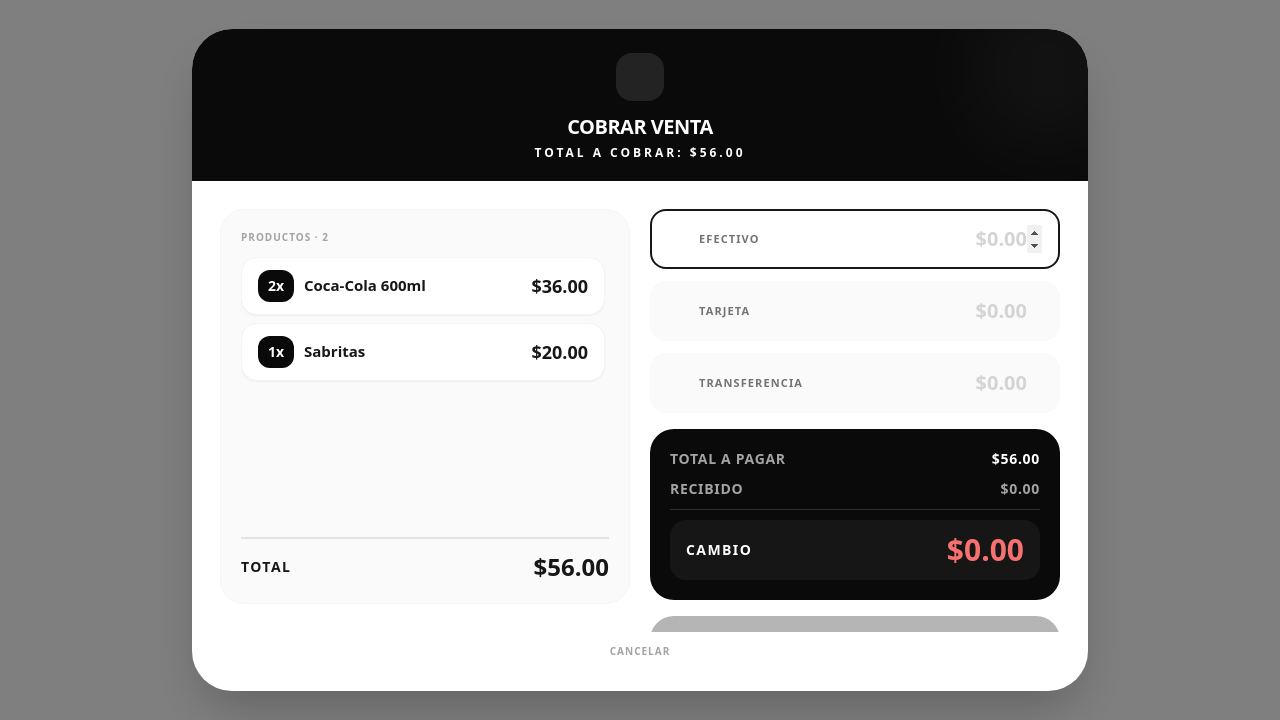
Scenario: ventas · guard de cobro insuficiente › deshabilita Cobrar si el monto pagado es menor al total
The image size is (1280, 720).
Type "10" into the number field with placeholder "$0.00" next to "Efectivo" at (932, 239), box x1=823 y1=225 x2=1042 y2=253
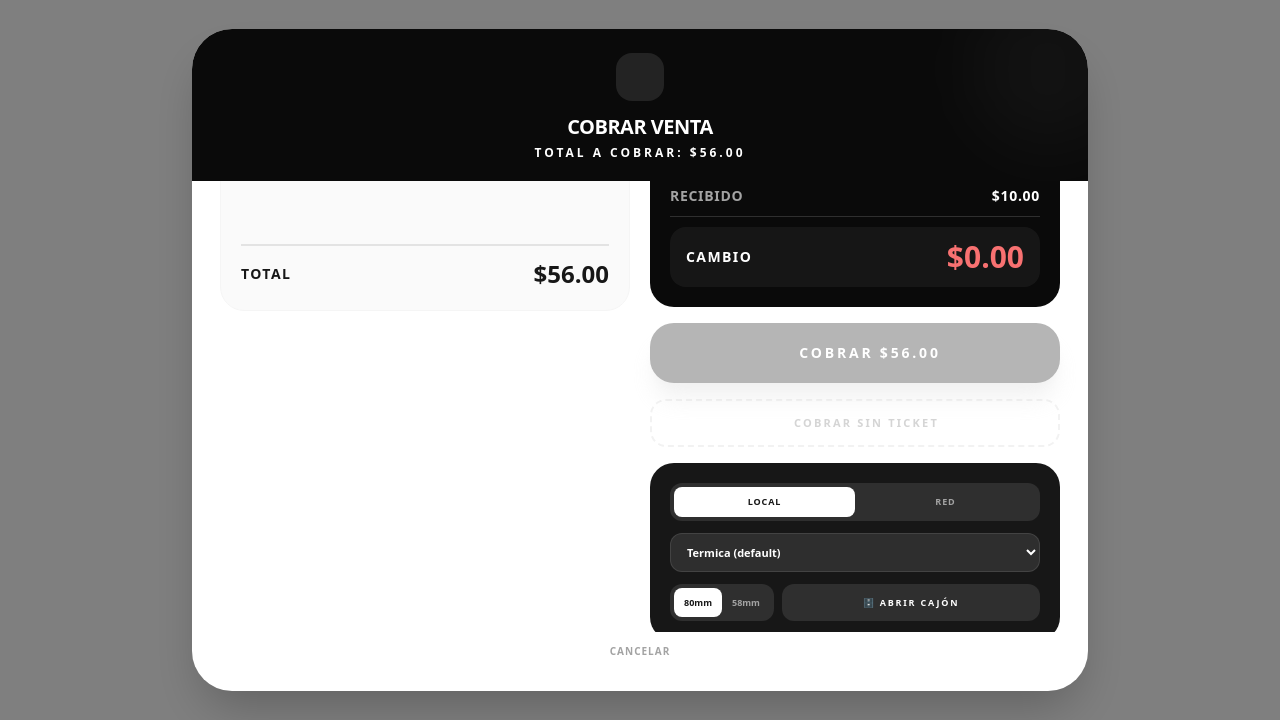
expect the button "Cobrar $56.00" is disabled: met, box x1=650 y1=323 x2=1060 y2=383
expect the button "Cobrar sin ticket" is disabled: met, box x1=650 y1=399 x2=1060 y2=447
